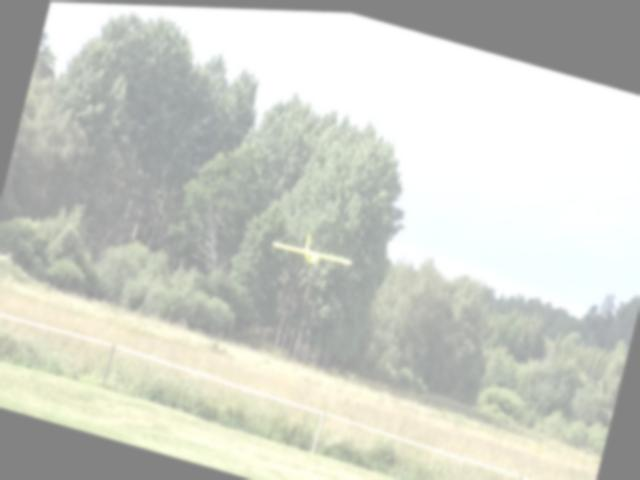plane: (268, 223, 355, 274)
